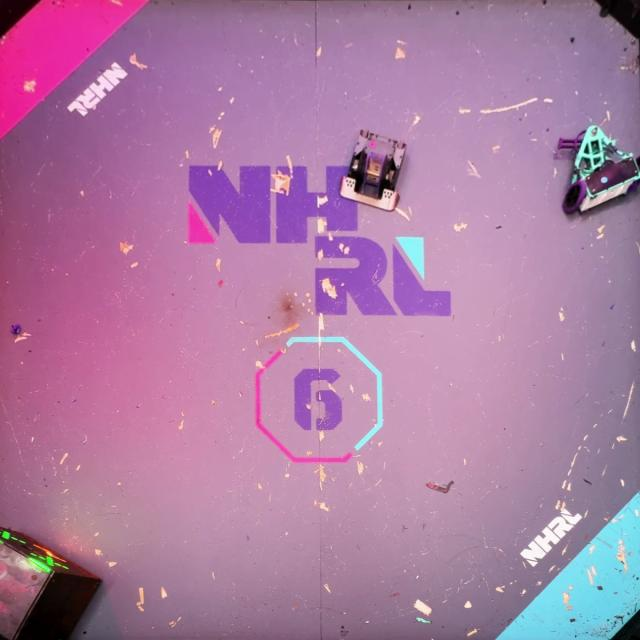housebot: (0, 527, 105, 640)
robot: (554, 119, 640, 219), (340, 125, 410, 212)
